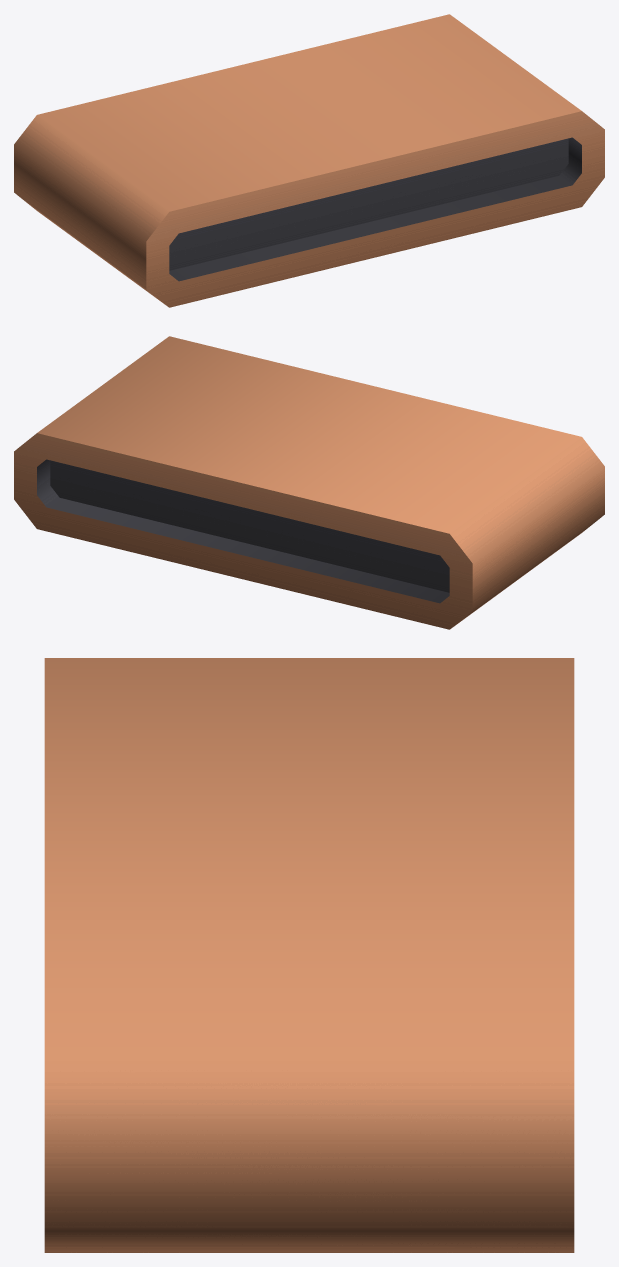
Rendered from conveyor-long.glb.
The picture shows the model from 3 angles, top to bottom: view 1: azimuth 30°, elevation 25°; view 2: azimuth 150°, elevation 25°; view 3: azimuth 270°, elevation 25°; orthographic projection. The views are drawn at different scales.
Parts seen in each view (by area): view 1: conveyor-long; view 2: conveyor-long; view 3: conveyor-long.
Boxes of the visible parts, box(x1,y1,x2,y2) form: conveyor-long: box(14, 14, 604, 307); conveyor-long: box(14, 336, 604, 629); conveyor-long: box(44, 658, 574, 1252).
Bounding box in the file's own units: 2 × 0.4 × 1.
1 material, 1 textured.
